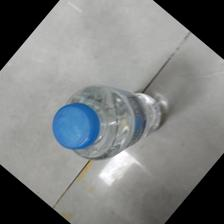Lavie: (52, 84, 168, 161)
